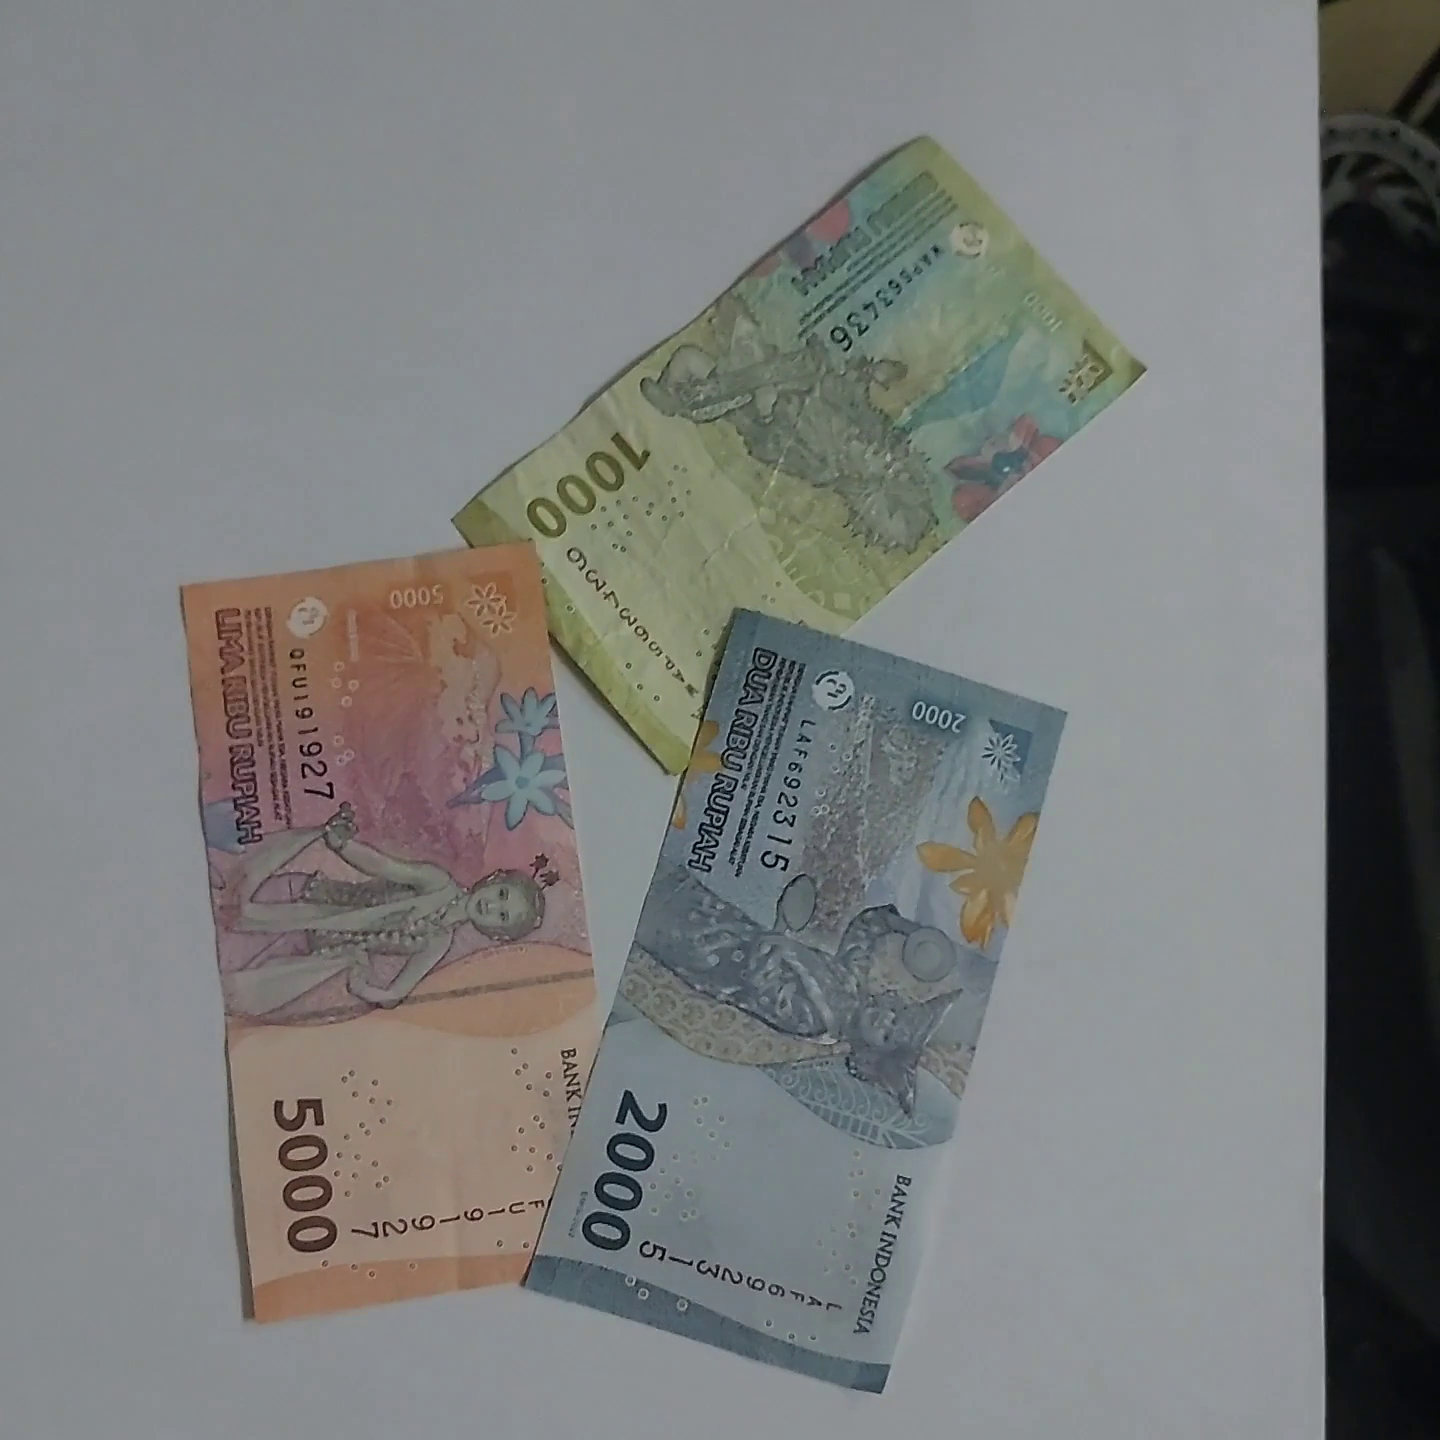1k: (923, 88, 1294, 728)
2k: (745, 601, 1114, 1316)
5k: (149, 596, 531, 1332)
